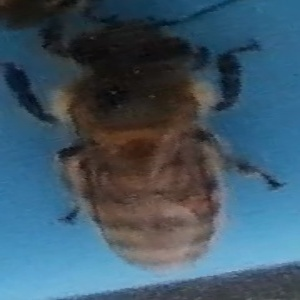bee: (47, 17, 287, 276)
